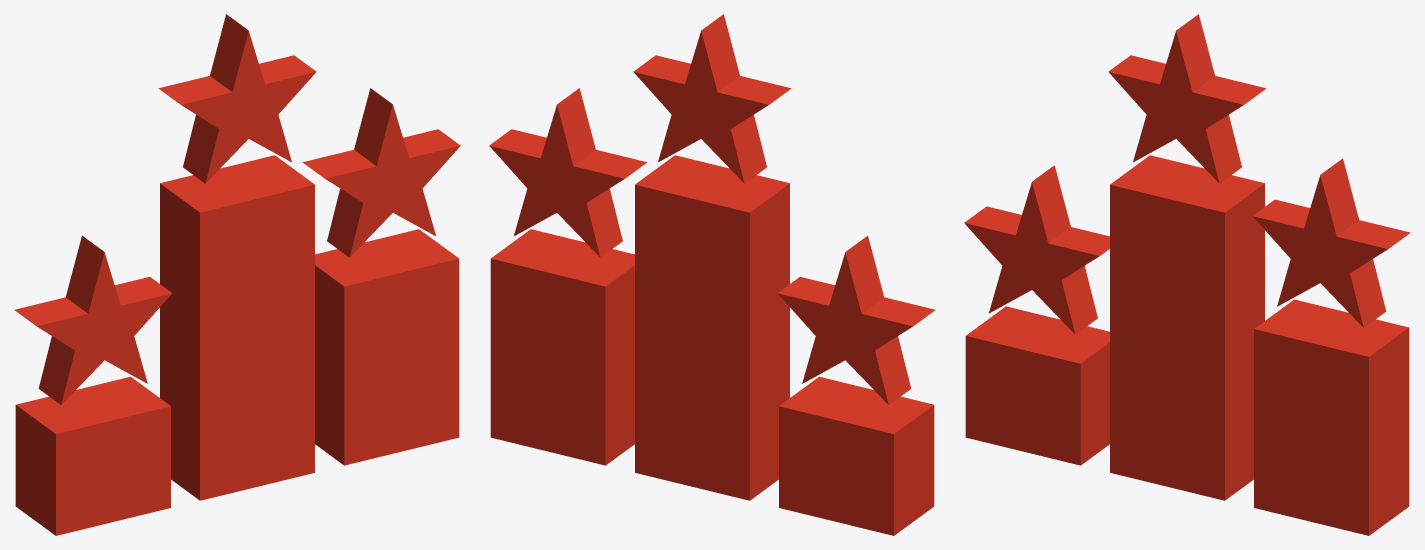
File: Icon_Podium.fbx
3 views of the same model, side by side, from view 1: azimuth 30°, elevation 25°; view 2: azimuth 150°, elevation 25°; view 3: azimuth 330°, elevation 25° (orthographic).
Visible parts, largest first — view 1: Icon_Podium; view 2: Icon_Podium; view 3: Icon_Podium.
Boxes of the visible parts, x1=… form: Icon_Podium: x1=14, y1=14, x2=460, y2=535; Icon_Podium: x1=489, y1=14, x2=935, y2=535; Icon_Podium: x1=964, y1=14, x2=1410, y2=535.
Bounding box in the file's own units: 73.37 × 74.33 × 12.06.
